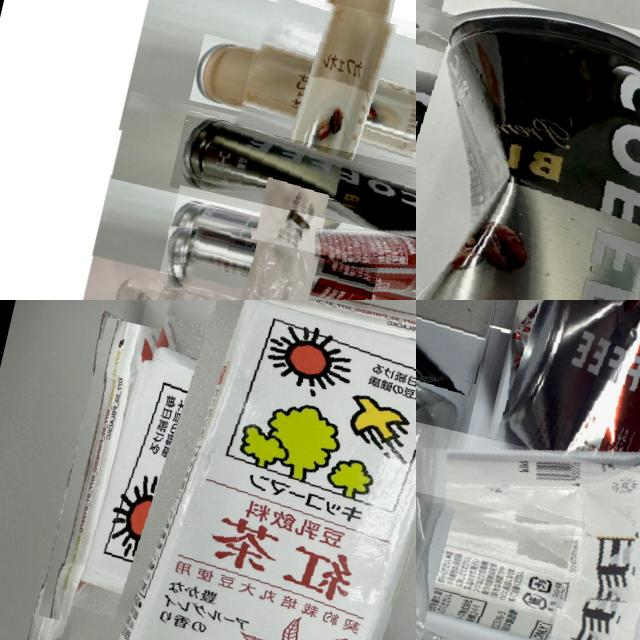Aluminium Foil: (59, 300, 416, 640), (416, 358, 640, 640)
Can: (416, 5, 640, 300), (225, 0, 416, 210), (168, 114, 416, 250), (485, 300, 640, 507), (158, 184, 416, 300)
Transparent Plastic Bottle: (416, 438, 574, 640), (149, 224, 377, 300)
